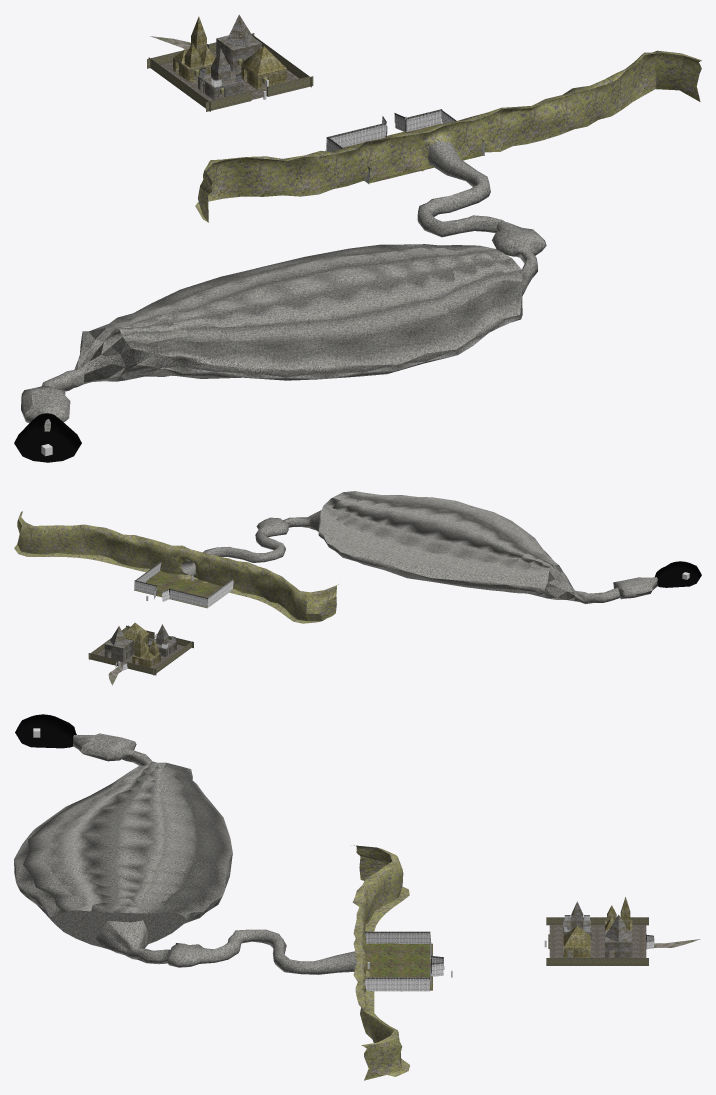
File: graybox draft 03.FBX
The picture shows the model from 3 angles, top to bottom: view 1: azimuth 30°, elevation 25°; view 2: azimuth 150°, elevation 25°; view 3: azimuth 270°, elevation 25°; orthographic projection. The views are drawn at different scales.
Visible parts, largest first — view 1: Cylinder001, cliff face, Plane020, cave exit tunnel, Big cave exit room, Second room cave, Watery floor void, Void room, Plane025, Plane017; view 2: Cylinder001, cliff face, Plane020, cave exit tunnel, Plane001, Big cave exit room, Second room cave, Void room, Tunnel 01, Watery floor void, Plane017, Plane024; view 3: Cylinder001, cliff face, Plane020, Big cave exit room, cave exit tunnel, Plane001, Second room cave, Plane027, Void room, Plane026, Watery floor void, Plane023.
Part boxes in pixels (x1=…): Cylinder001: x1=74, y1=244, x2=522, y2=384; cliff face: x1=195, y1=50, x2=701, y2=222; Plane020: x1=160, y1=14, x2=299, y2=100; cave exit tunnel: x1=417, y1=140, x2=501, y2=237; Big cave exit room: x1=492, y1=220, x2=546, y2=295; Second room cave: x1=21, y1=385, x2=70, y2=431; Watery floor void: x1=19, y1=431, x2=77, y2=462; Void room: x1=14, y1=413, x2=81, y2=462; Plane025: x1=206, y1=76, x2=313, y2=111; Plane017: x1=325, y1=122, x2=386, y2=151; Cylinder001: x1=318, y1=491, x2=575, y2=601; cliff face: x1=14, y1=511, x2=338, y2=623; Plane020: x1=97, y1=622, x2=184, y2=668; cave exit tunnel: x1=181, y1=530, x2=285, y2=575; Plane001: x1=134, y1=571, x2=222, y2=608; Big cave exit room: x1=256, y1=510, x2=321, y2=537; Second room cave: x1=613, y1=577, x2=657, y2=599; Void room: x1=655, y1=561, x2=701, y2=587; Tunnel 01: x1=574, y1=587, x2=619, y2=604; Watery floor void: x1=657, y1=571, x2=698, y2=587; Plane017: x1=169, y1=588, x2=207, y2=607; Plane024: x1=88, y1=653, x2=156, y2=675; Cylinder001: x1=14, y1=761, x2=232, y2=947; cliff face: x1=352, y1=845, x2=409, y2=1080; Plane020: x1=549, y1=897, x2=646, y2=957; Big cave exit room: x1=96, y1=920, x2=215, y2=967; cave exit tunnel: x1=214, y1=929, x2=357, y2=974; Plane001: x1=364, y1=943, x2=432, y2=991; Second room cave: x1=73, y1=733, x2=136, y2=761; Plane027: x1=364, y1=977, x2=429, y2=991; Void room: x1=15, y1=714, x2=76, y2=748; Plane026: x1=365, y1=931, x2=429, y2=943; Watery floor void: x1=18, y1=728, x2=73, y2=747; Plane023: x1=546, y1=958, x2=648, y2=965.
Size of the model in its own units: 21707 by 1489 by 17797.
